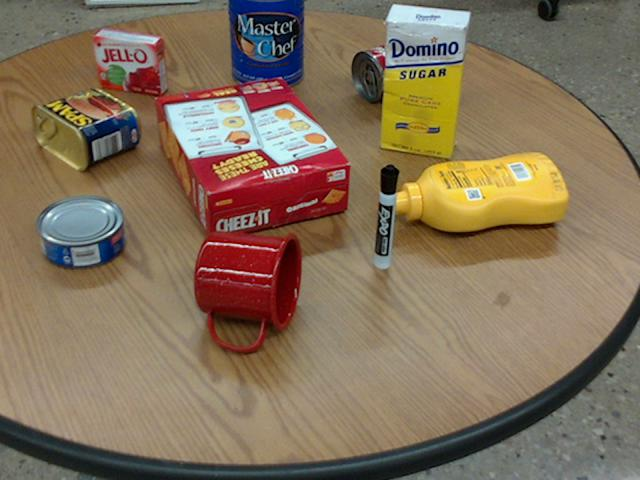cracker_box: (154, 77, 350, 239)
gelatin_box: (93, 27, 166, 93)
large_marker: (374, 164, 398, 268)
master_chef_can: (229, 0, 303, 88)
mug: (192, 232, 299, 349)
mustard_bottle: (386, 152, 566, 230)
potted_meat_can: (31, 88, 138, 168)
sugar_box: (381, 4, 469, 157)
tomato_soup_can: (350, 33, 438, 99)
tuna_fish_can: (36, 194, 123, 267)
